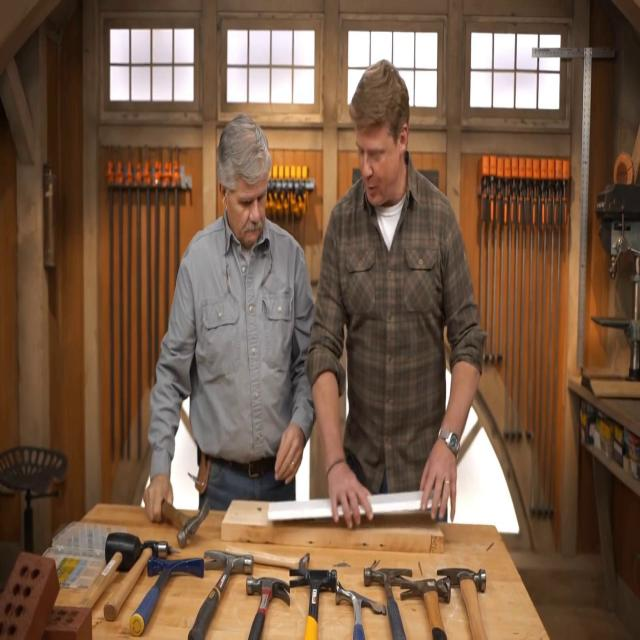hammer: (130, 558, 205, 638), (188, 550, 254, 637), (105, 540, 169, 622), (77, 534, 143, 608), (290, 567, 338, 640), (364, 567, 412, 640), (438, 566, 485, 640), (402, 576, 451, 640), (335, 585, 387, 640), (246, 576, 290, 640), (161, 500, 210, 545), (252, 552, 310, 568)
